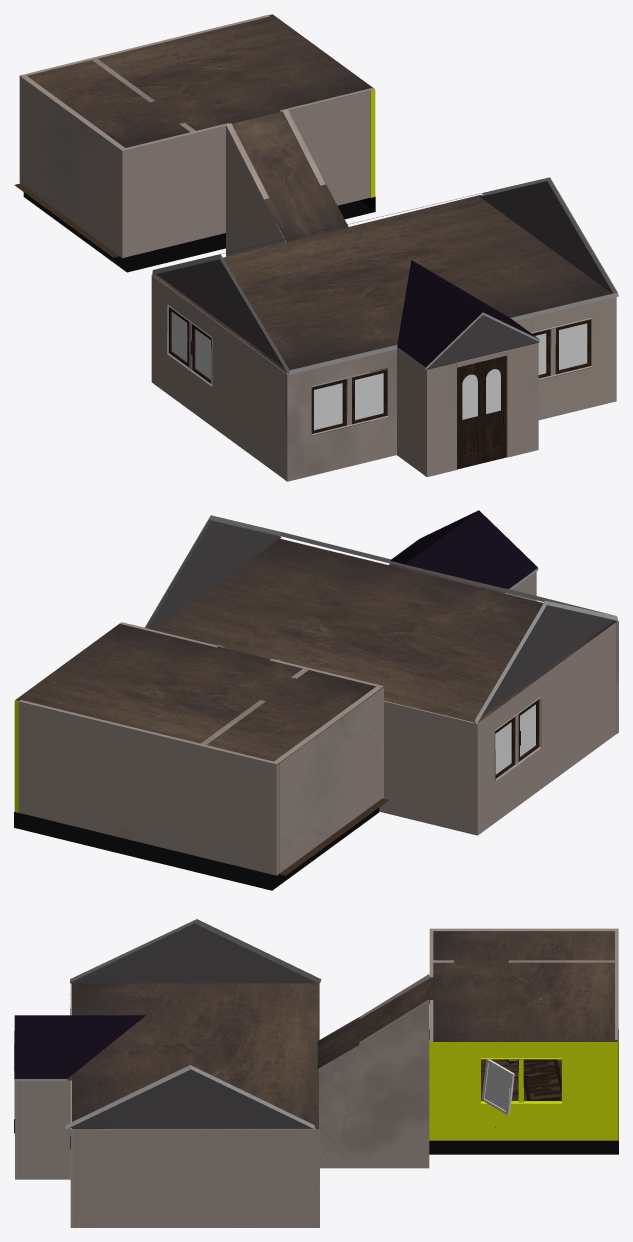
File: couch.fbx
The picture shows the model from 3 angles, top to bottom: view 1: azimuth 30°, elevation 25°; view 2: azimuth 150°, elevation 25°; view 3: azimuth 270°, elevation 25°; orthographic projection. The views are drawn at different scales.
Parts seen in each view (by area): view 1: Plane.056, Plane.058, Cube.061, Cube.102, Plane.060, Cube.103, Cube.058, Plane.061, Plane.059, Cube.104, Cube.008, Cube.136 (+14 smaller); view 2: Plane.056, Cube.101, Plane.058, Cube.061, Cube.102, Plane.060, Cube.016, Plane.061, Plane.296, Plane.055, Plane.297, Plane.298 (+1 smaller); view 3: Plane.056, Cube.007, Plane.058, Plane.060, Cube.100, Cube.098, Plane.061, Cube.020, Plane.296, Plane.059, Plane.314, Cube.102 (+4 smaller).
Boxes of the visible parts, x1,y1,x2,y2 form: Plane.056: (153, 194, 611, 373); Plane.058: (19, 14, 374, 150); Cube.061: (153, 276, 285, 479); Cube.102: (21, 76, 124, 258); Plane.060: (152, 177, 618, 374); Cube.103: (121, 123, 228, 257); Cube.058: (284, 349, 396, 481); Plane.061: (397, 260, 539, 369); Plane.059: (227, 112, 348, 242); Cube.104: (280, 88, 374, 205); Cube.008: (515, 297, 616, 420); Cube.136: (226, 123, 285, 256); Plane.056: (155, 538, 617, 723); Cube.101: (18, 700, 278, 875); Plane.058: (15, 623, 383, 764); Cube.061: (479, 623, 615, 833); Cube.102: (274, 686, 383, 873); Plane.060: (145, 515, 617, 724); Cube.016: (379, 700, 479, 835); Plane.061: (389, 510, 538, 589); Plane.296: (14, 807, 379, 890); Plane.055: (279, 798, 388, 875); Plane.297: (495, 722, 511, 774); Plane.298: (520, 704, 535, 756); Plane.056: (72, 983, 318, 1128); Cube.007: (75, 1129, 316, 1227); Plane.058: (430, 931, 617, 1041); Plane.060: (65, 919, 321, 1129); Cube.100: (429, 1040, 618, 1140); Cube.098: (319, 999, 429, 1168); Plane.061: (14, 1015, 145, 1081); Cube.020: (19, 1080, 70, 1179); Plane.296: (429, 1029, 618, 1154); Plane.059: (317, 976, 430, 1068); Plane.314: (484, 1063, 510, 1110); Cube.102: (430, 928, 614, 931).
Bounding box in the file's own units: 2633 × 1394 × 4551.
